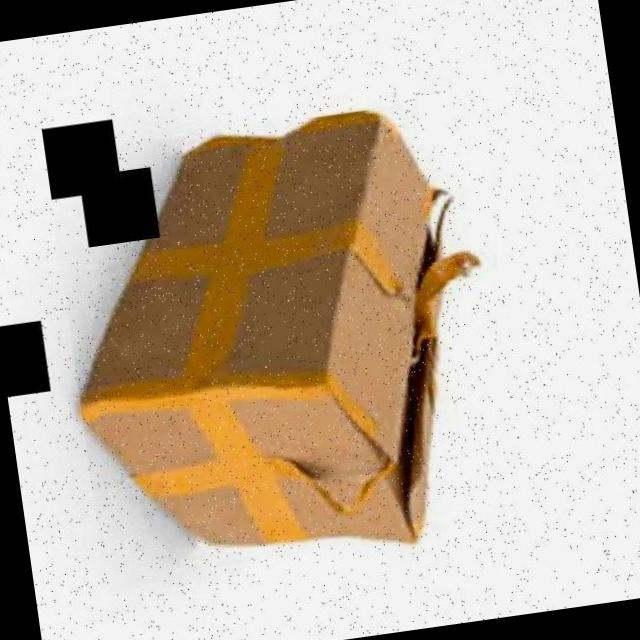box: (46, 99, 503, 596)
